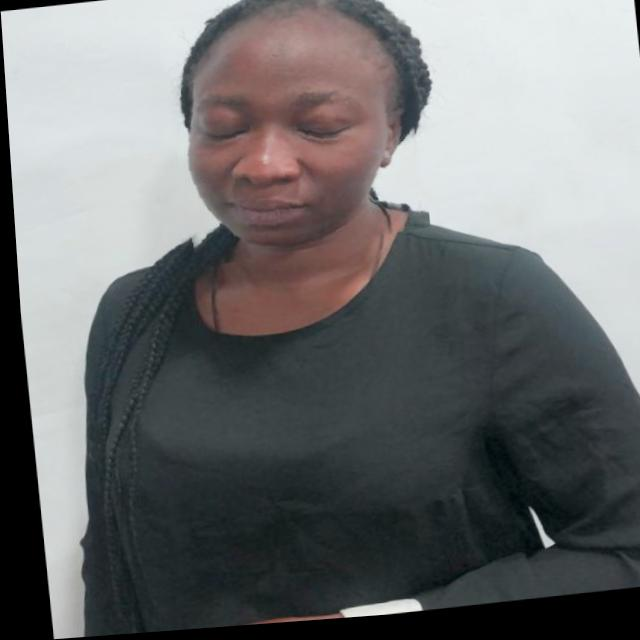sad: (155, 0, 424, 269)
